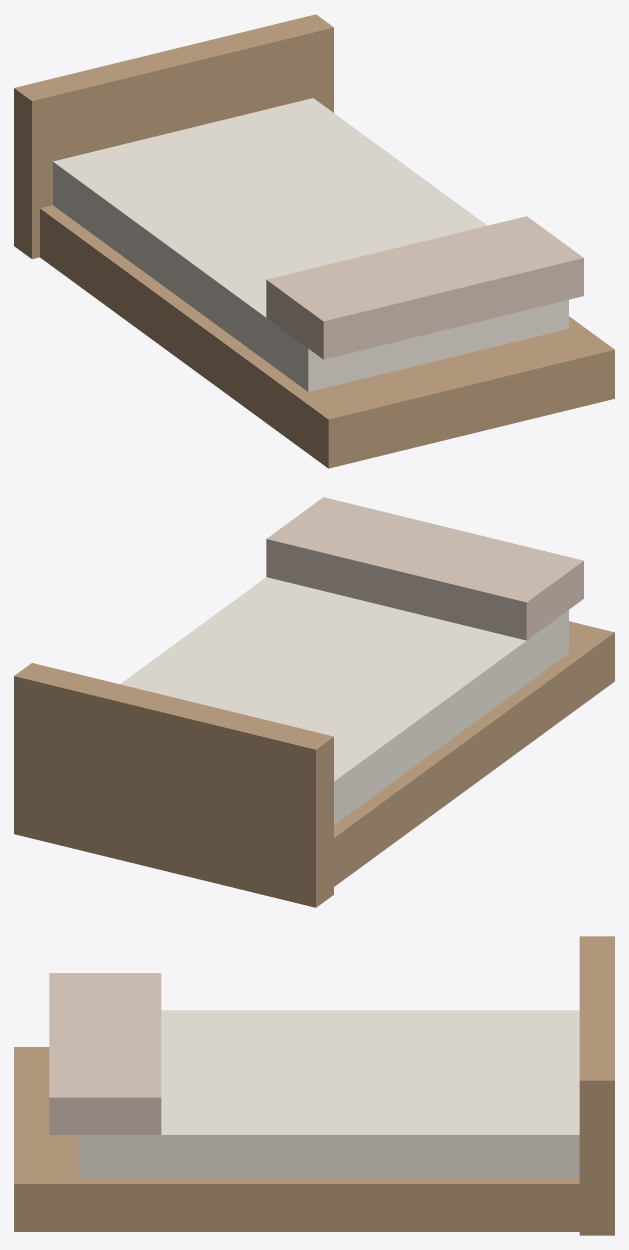
Rendered from bed.glb.
3 views of the same model, one above another, from view 1: azimuth 30°, elevation 25°; view 2: azimuth 150°, elevation 25°; view 3: azimuth 270°, elevation 25° (orthographic). The views are drawn at different scales.
Parts seen in each view (by area): view 1: Roomark Demo Bed; view 2: Roomark Demo Bed; view 3: Roomark Demo Bed.
Boxes of the visible parts, x1,y1,x2,y2 form: Roomark Demo Bed: (14,14,614,468); Roomark Demo Bed: (14,497,614,907); Roomark Demo Bed: (14,936,614,1235).
Size of the model in its own units: 1.16 by 0.58 by 2.04.
